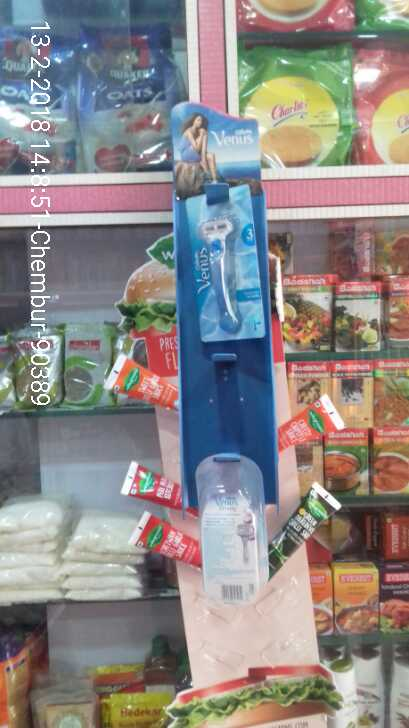venus: (187, 192, 274, 351)
